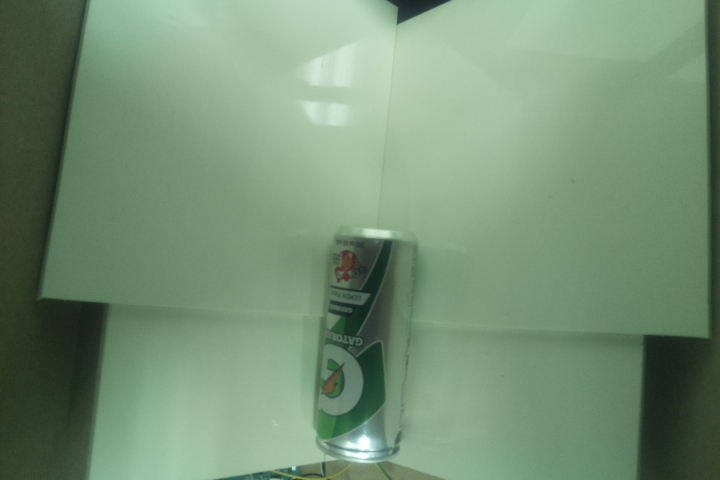can: (309, 223, 418, 464)
